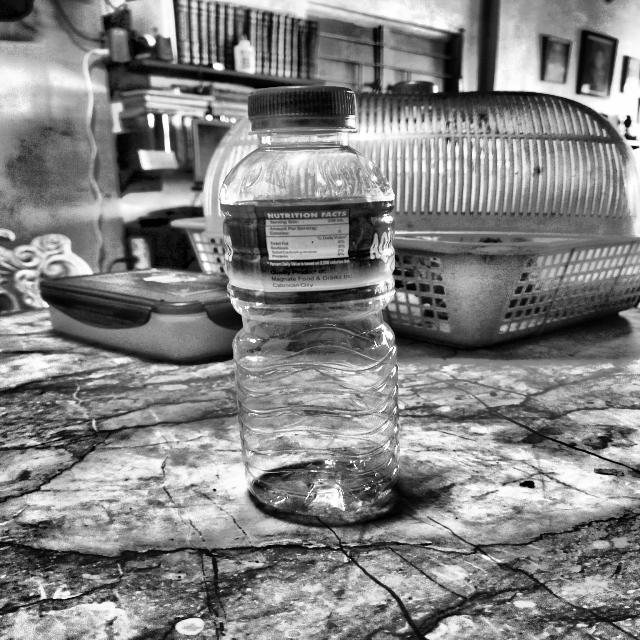Plastic-Bottle: (211, 80, 413, 524)
